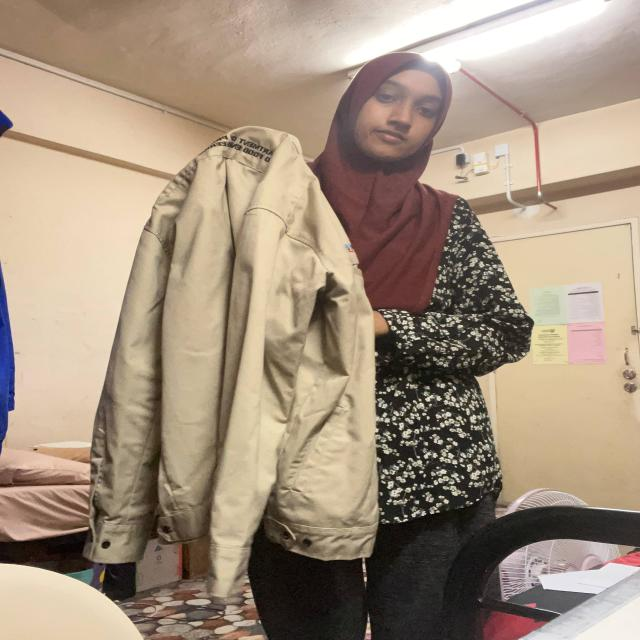person_without_labcoat: (86, 53, 533, 640)
